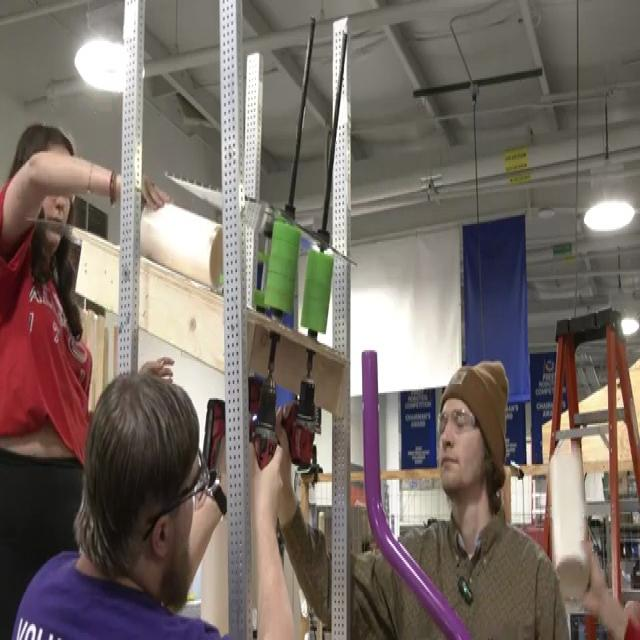Coral: (547, 437, 590, 601), (141, 204, 224, 284)
